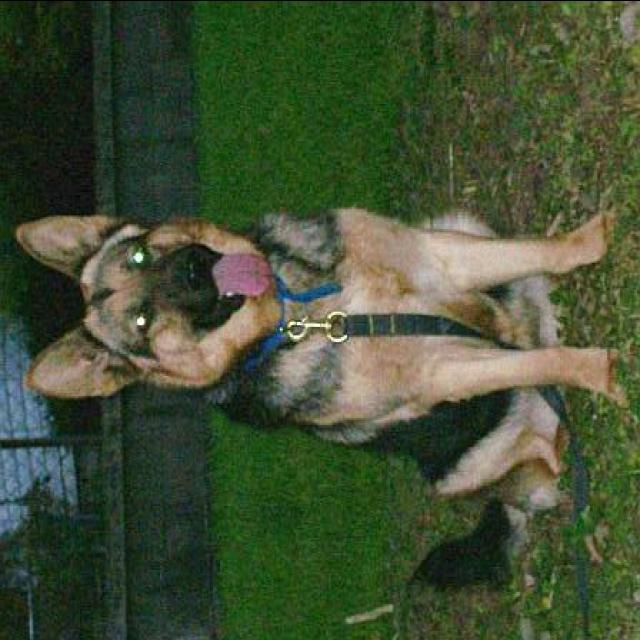dog: (0, 160, 640, 608)
